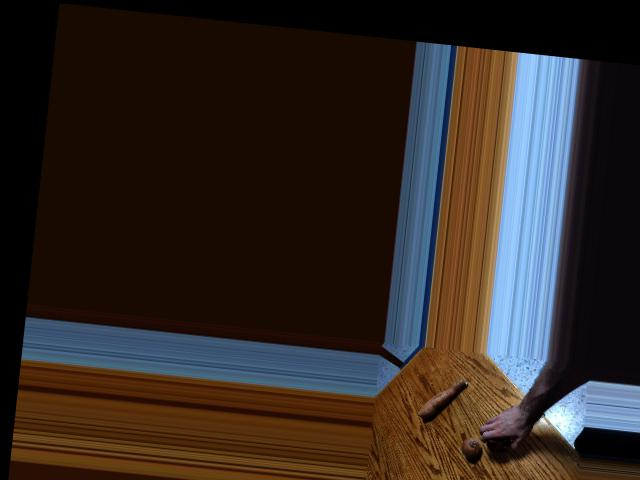onion: (485, 433, 509, 452)
